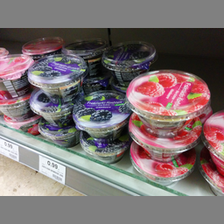jam: (125, 68, 212, 137), (72, 90, 130, 142), (27, 54, 87, 102), (98, 41, 156, 87), (30, 90, 78, 128)
